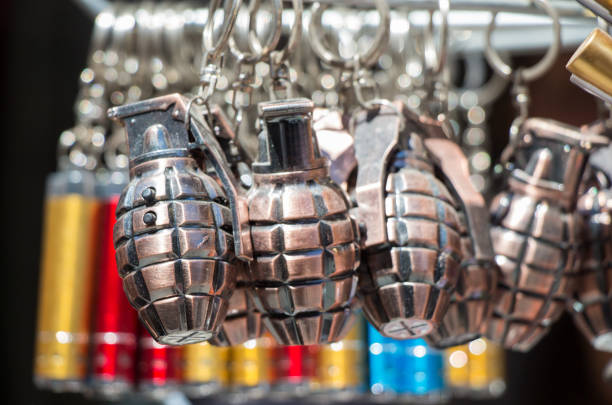e1: (104, 95, 247, 350), (242, 87, 361, 346), (352, 101, 459, 342)
